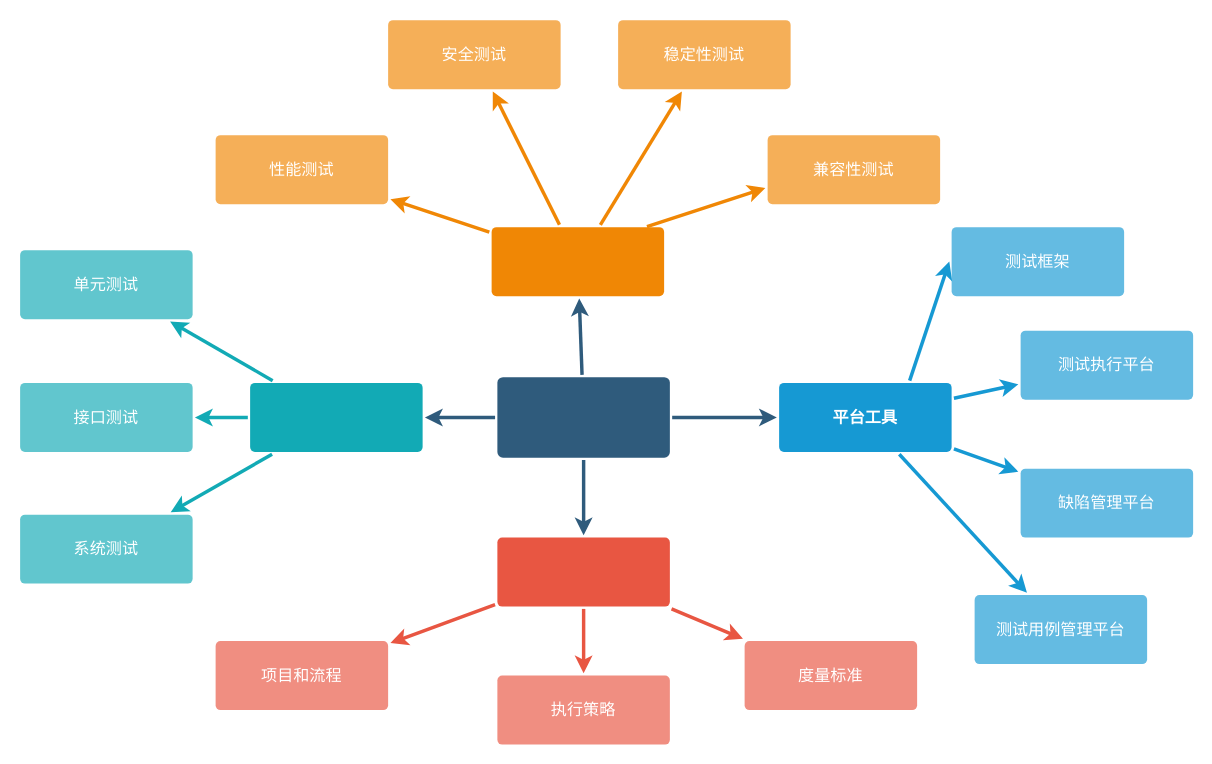
Image size: 1212x764. Some labels were removed from this diagram. Here are the shapes that lost their labels. From the top down, the centre of each, then its label:
(x=577, y=261): 专项测试
(x=336, y=416): 测试层次
(x=583, y=417): 自动化测试
(x=583, y=571): 实施策略
